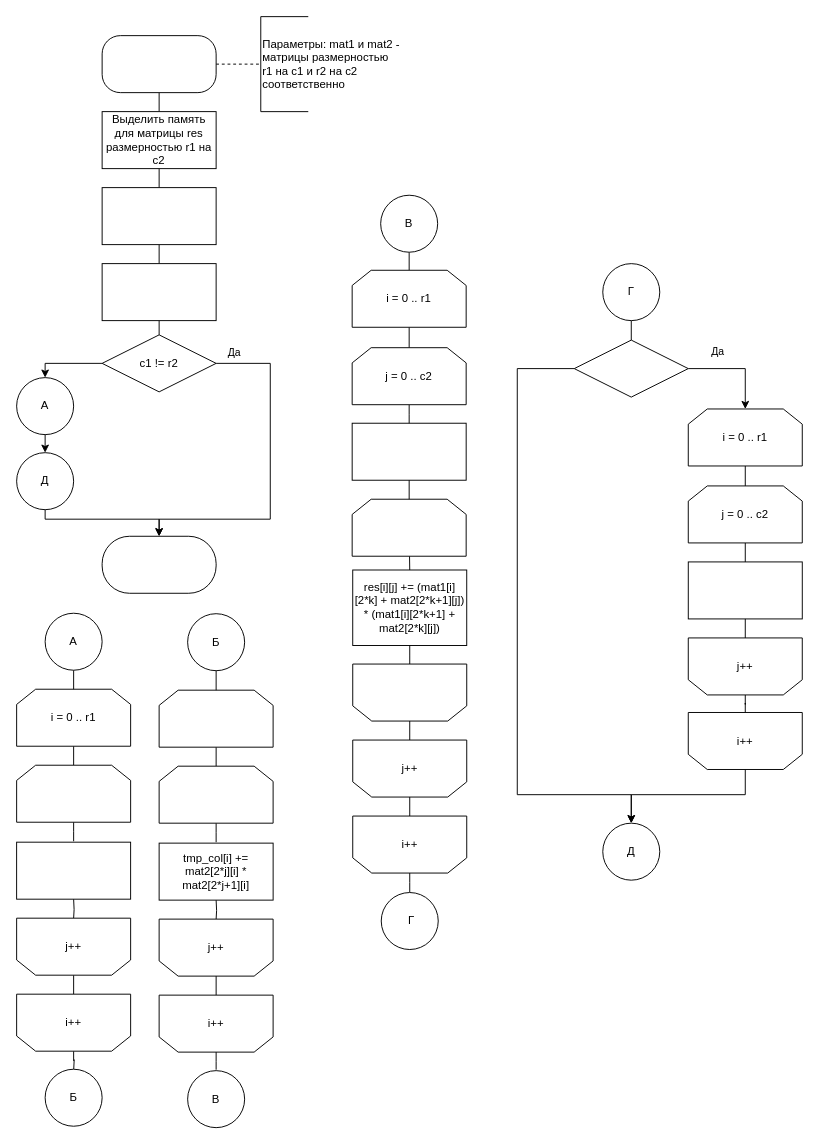
This 819x1145 diagram has some shape labels left out. The centre of each missing label's shape, as x and y in pixels:
"c1 % 2 == 1" goes at point (630, 368).
"i = 0 .. c2" goes at point (215, 718).
"j = 0 .. c1 / 2" goes at point (73, 793).
"j = 0 .. c2 / 2" goes at point (215, 794).
"k = 0 .. c1 / 2" goes at point (408, 527).
"k++" goes at point (409, 692).
"res[i][j] += mat1[i][c1-1] * mat2[c1-1][j]" goes at point (744, 590).
"res[i][j] = -tmp_row[i] -tmp_col[j]" goes at point (408, 451).
"tmp_row[i] += mat1[i][2*j] * mat1[i][2*j+1]" goes at point (73, 870).
"Выделить память для массива tmp_col длиной c2" goes at point (158, 292).
"Выделить память для массива tmp_row длиной r1" goes at point (158, 216).
"Конец" goes at point (158, 564).
"Начало" goes at point (158, 64).
